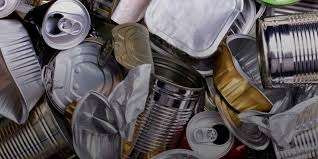metal: (105, 23, 199, 159), (35, 37, 130, 124), (108, 1, 246, 60), (210, 29, 295, 122), (1, 11, 51, 129), (1, 87, 81, 159), (253, 7, 318, 88), (22, 1, 94, 52), (184, 105, 236, 159)
